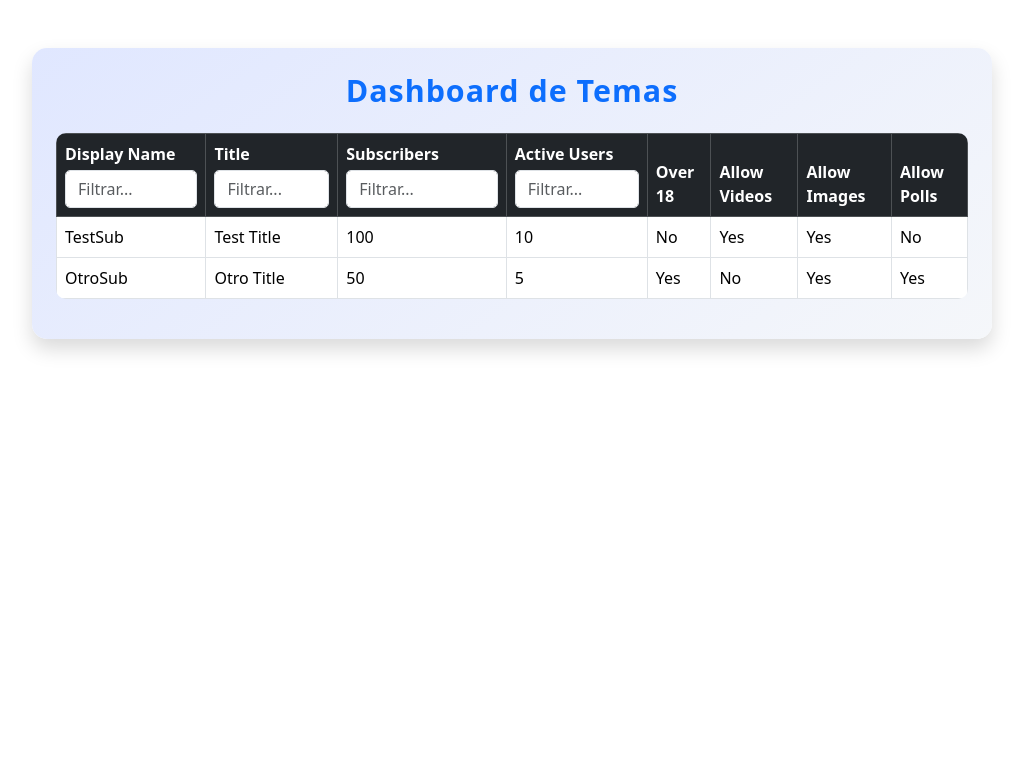
Temas Component › Muestra modal al hacer click en una fila
Click the text "TestSub": (512,236) [56,216,968,257]
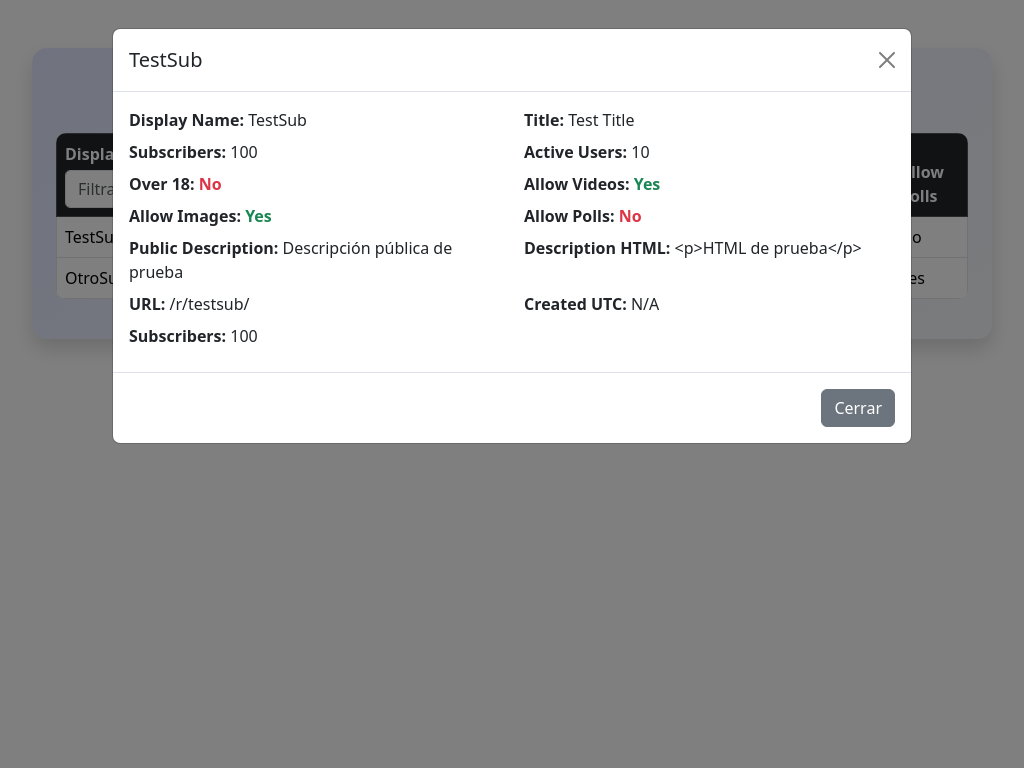
Now the text "Descripción pública de prueba" is shown, box [129,237,452,283]
Now the text "/r/testsub/" is shown, box [169,293,250,315]
